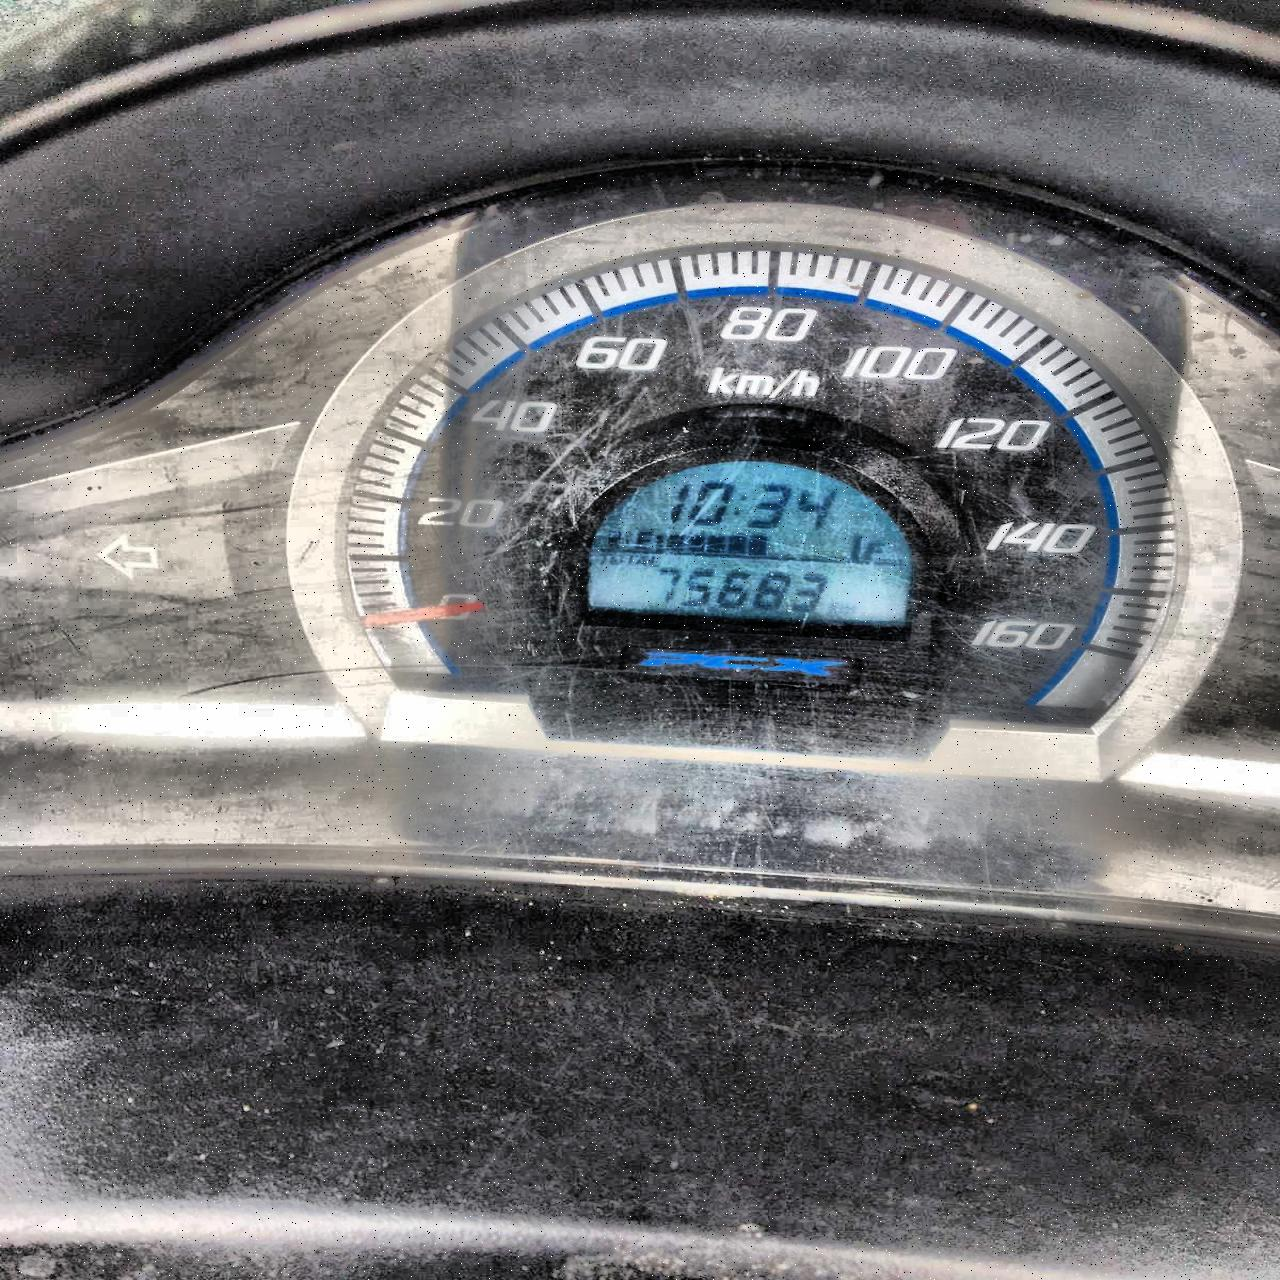0: (688, 481, 733, 525)
1: (668, 485, 689, 523), (849, 535, 862, 561)
3: (748, 483, 791, 527), (790, 573, 825, 611)
4: (796, 489, 836, 530)
5: (681, 568, 714, 606)
6: (716, 571, 751, 607)
7: (654, 567, 681, 602)
8: (750, 571, 789, 610)
X: (862, 543, 884, 560), (730, 493, 747, 517), (634, 530, 651, 549), (624, 553, 636, 565), (611, 553, 624, 565), (597, 552, 610, 564), (648, 554, 659, 566), (635, 556, 646, 565)
odometer: (579, 458, 915, 635)
